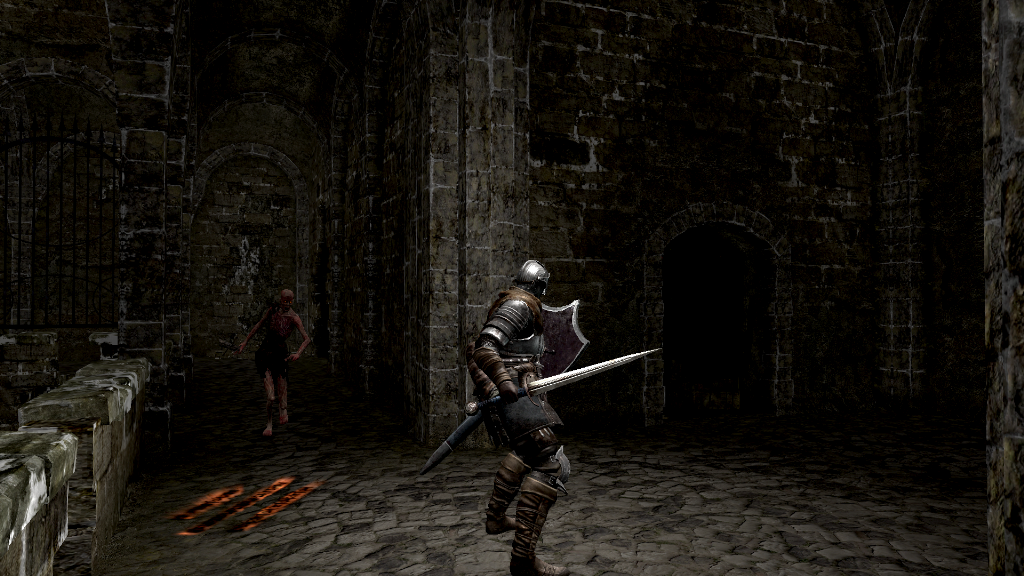hollow: (236, 287, 312, 437)
player: (464, 259, 663, 576)
